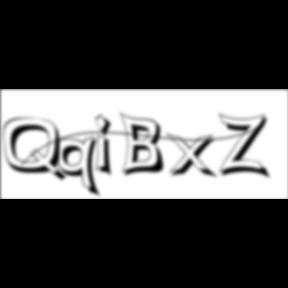B: (120, 111, 170, 179)
Q: (4, 117, 70, 184)
Z: (218, 112, 274, 181)
i: (95, 112, 119, 180)
q: (56, 135, 104, 200)
x: (166, 132, 222, 181)
